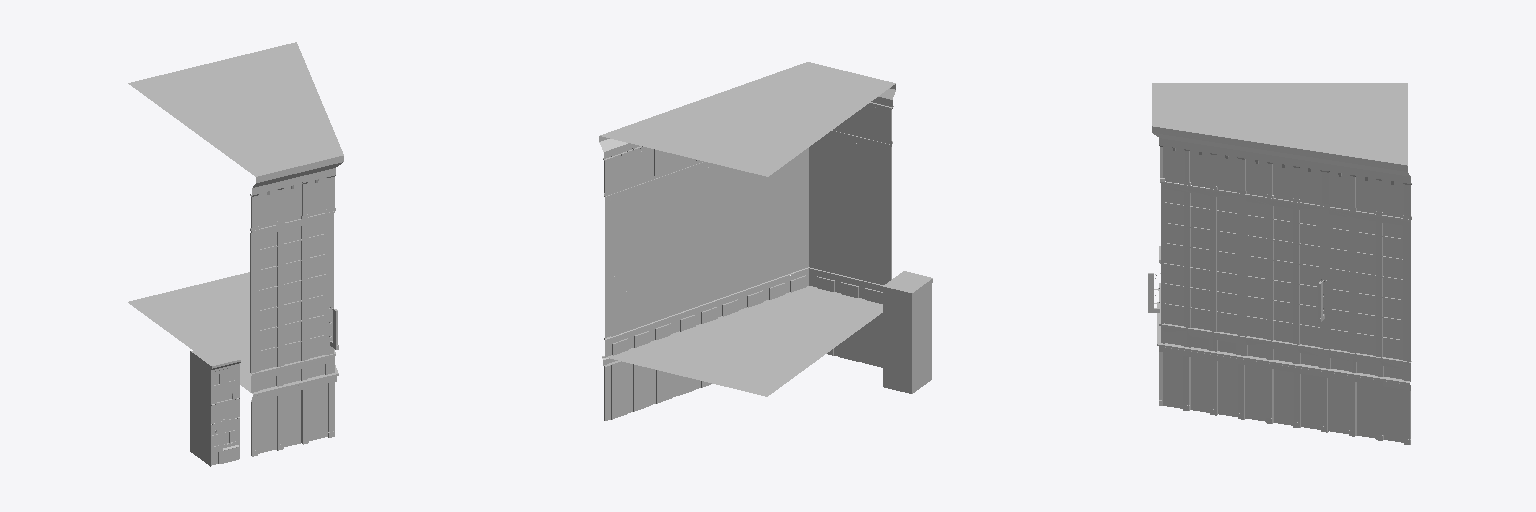
The model's file is NY Building.obj.
3 views of the same model, side by side, from view 1: azimuth 30°, elevation 25°; view 2: azimuth 150°, elevation 25°; view 3: azimuth 270°, elevation 25° (orthographic).
Parts seen in each view (by area): view 1: main, main.001; view 2: main, main.001; view 3: main.
Boxes of the visible parts, <box> form: main: <box>128,42,343,456</box>; main.001: <box>190,344,240,466</box>; main: <box>599,62,895,420</box>; main.001: <box>883,271,932,393</box>; main: <box>1148,83,1411,444</box>.
Size of the model in its own units: 183 by 235 by 200.